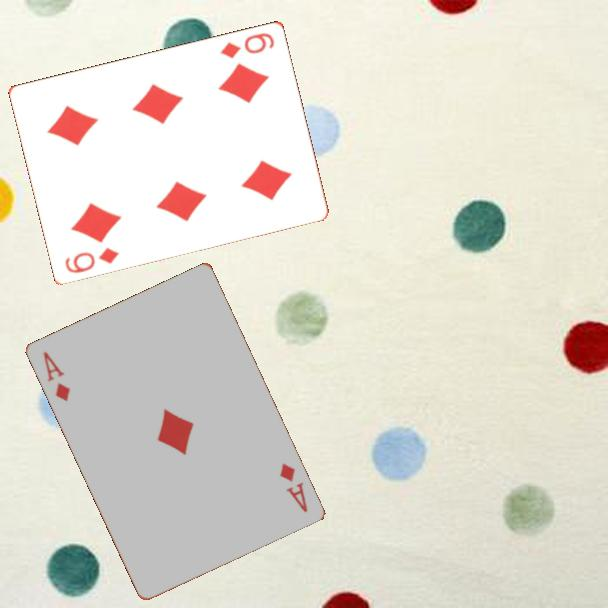d01: (276, 459, 311, 516), (40, 348, 74, 404)
d06: (62, 243, 122, 276), (217, 29, 277, 61)
